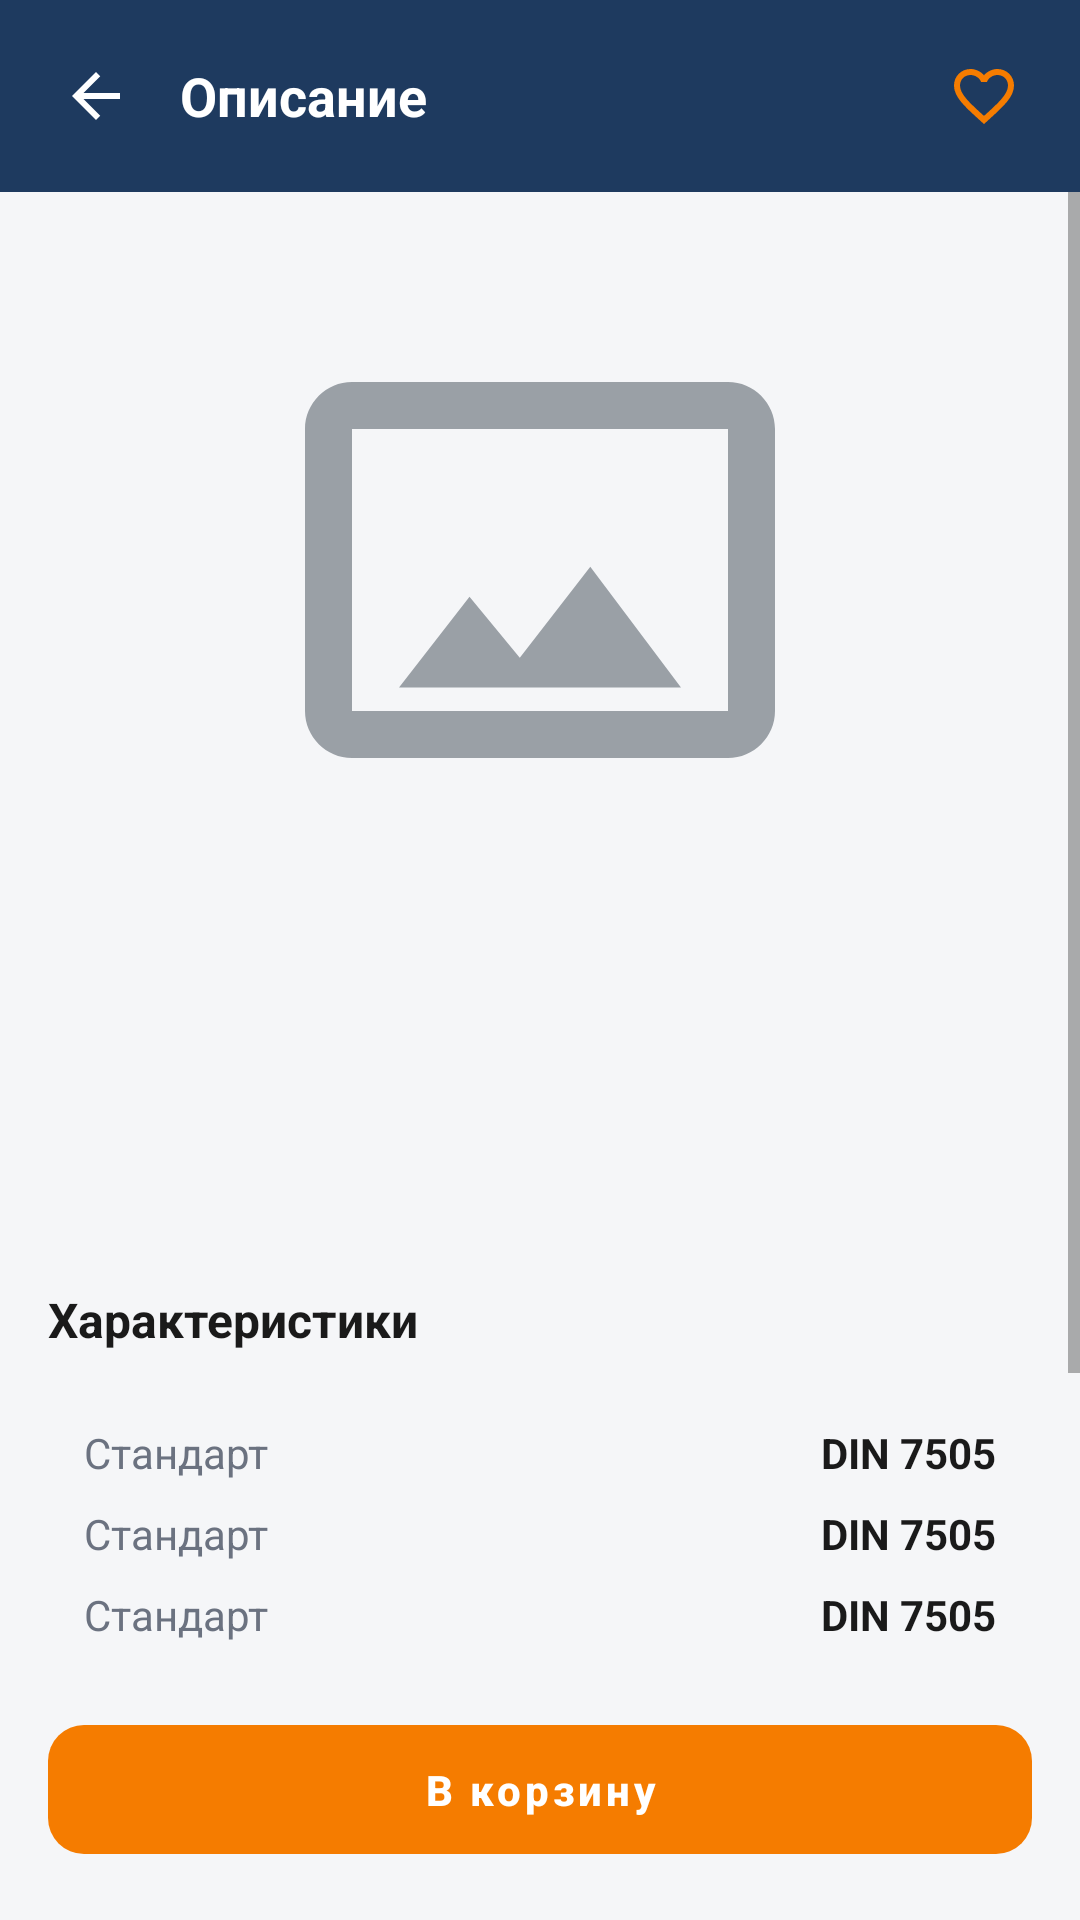

Locate icon controls on the screen. Image size 1080w x 1920h, boxes as [x1, y1, x2, y2].
arrow back: [72, 72, 120, 120]
favorite border: [954, 69, 1014, 124]
